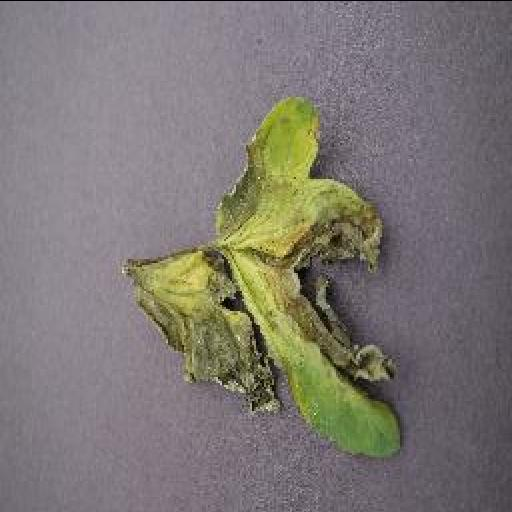disease_tomato: (122, 95, 406, 457)
